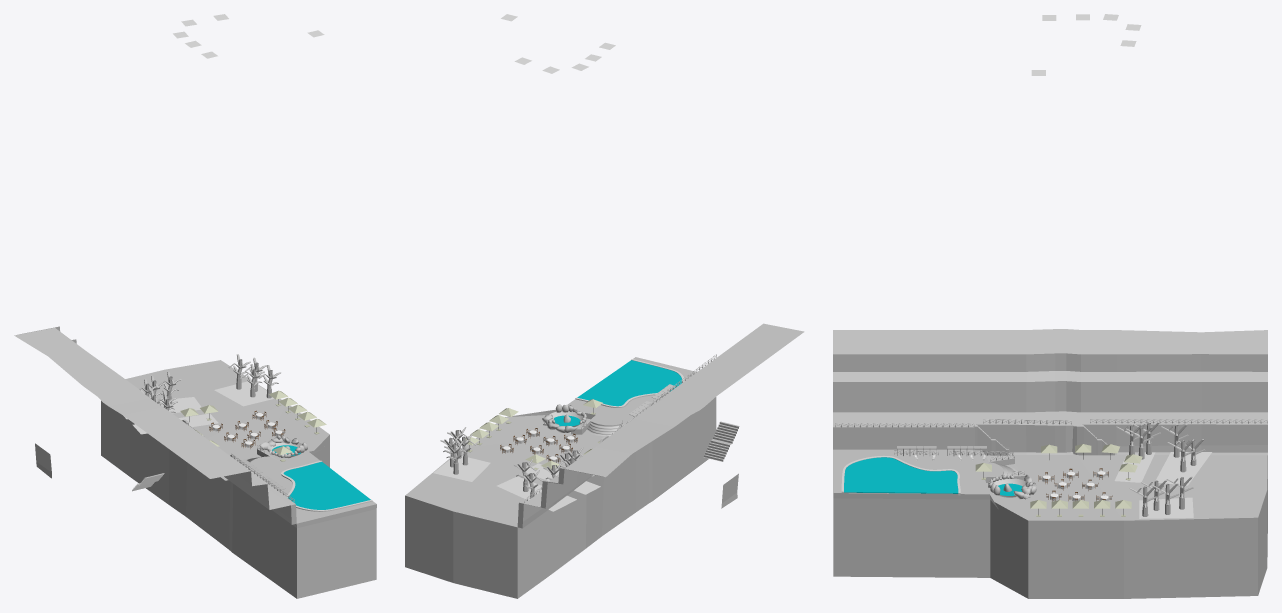
The model's file is hotel.fbx.
3 renders of one model, left to right at view 1: azimuth 30°, elevation 25°; view 2: azimuth 150°, elevation 25°; view 3: azimuth 270°, elevation 25°, orthographic. The views are drawn at different scales.
Parts seen in each view (by area): view 1: 平面.009, ベジエカーブ.001, 平面.008, 立方体.182; view 2: 平面.009, ベジエカーブ.001, 平面.008, 平面.043, 立方体.182; view 3: 平面.009, ベジエカーブ.001, 平面.008, 立方体.182.
Part boxes in pixels (x1,y1,x2,y2): 平面.009: [14, 326, 376, 598]; ベジエカーブ.001: [283, 462, 370, 509]; 平面.008: [123, 381, 273, 434]; 立方体.182: [269, 390, 326, 434]; 平面.009: [405, 323, 804, 598]; ベジエカーブ.001: [577, 360, 681, 406]; 平面.008: [433, 456, 600, 511]; 平面.043: [703, 421, 739, 461]; 立方体.182: [461, 408, 518, 452]; 平面.009: [833, 329, 1267, 598]; ベジエカーブ.001: [844, 457, 958, 493]; 平面.008: [1114, 452, 1211, 518]; 立方体.182: [1030, 500, 1131, 516].
Bounding box in the file's own units: 11.07 × 19.18 × 14.5.
